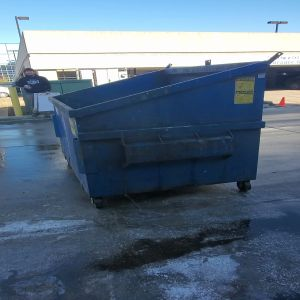Dumpster: (51, 64, 269, 209)
Person: (20, 66, 50, 92)
